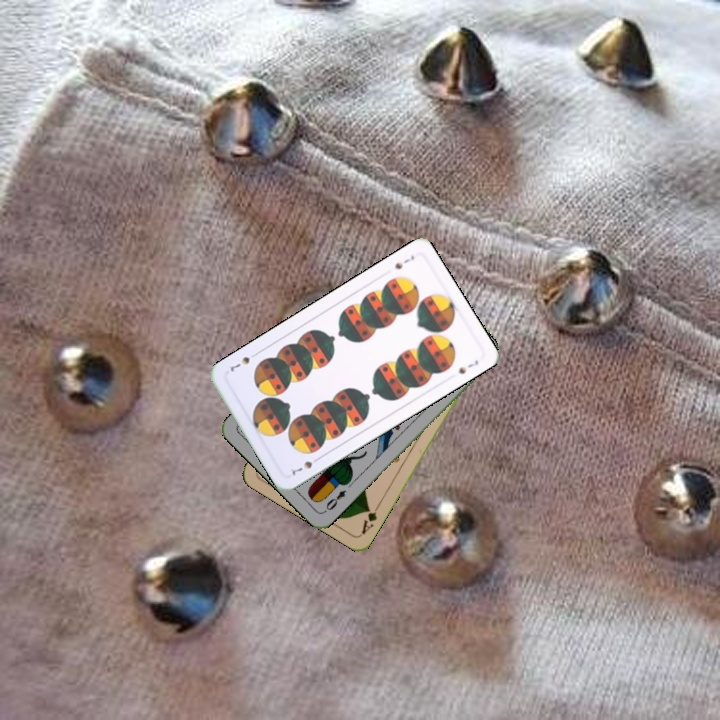EO: (320, 486, 349, 515)
GA: (357, 499, 383, 537)
S7: (288, 453, 323, 478), (390, 251, 417, 272)
